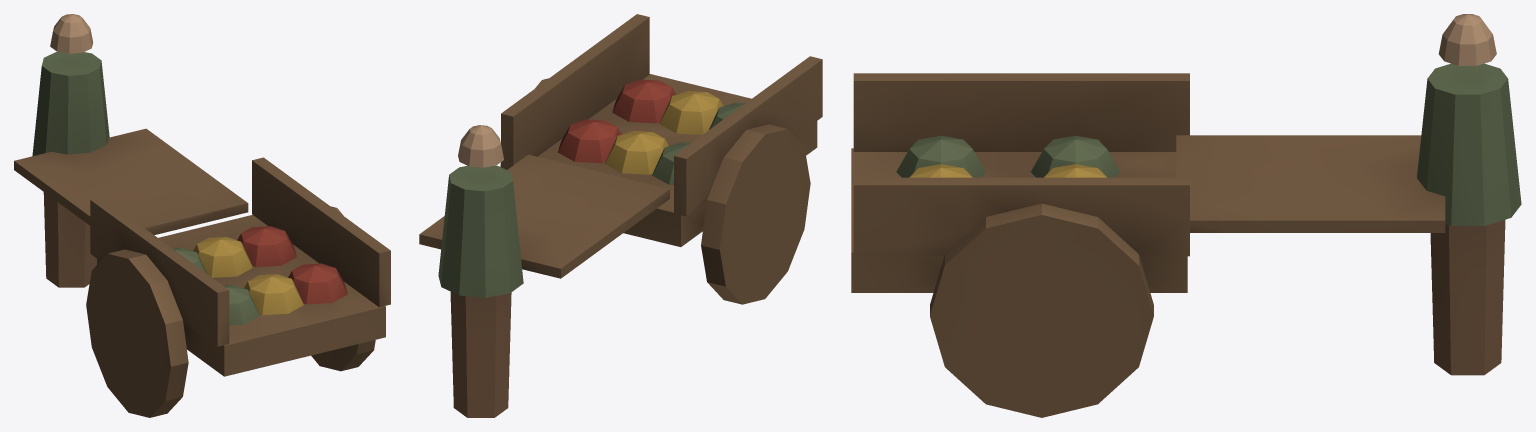
Rendered from handcart.glb.
3 views of the same model, side by side, from view 1: azimuth 30°, elevation 25°; view 2: azimuth 150°, elevation 25°; view 3: azimuth 270°, elevation 25° (orthographic). The views are drawn at different scales.
Visible parts, largest first — view 1: base; view 2: base; view 3: base.
Boxes of the visible parts, x1,y1,x2,y2 form: base: (14,14,390,417); base: (419,14,822,417); base: (851,14,1521,417).
Size of the model in its own units: 1.42 by 1.72 by 2.99.
